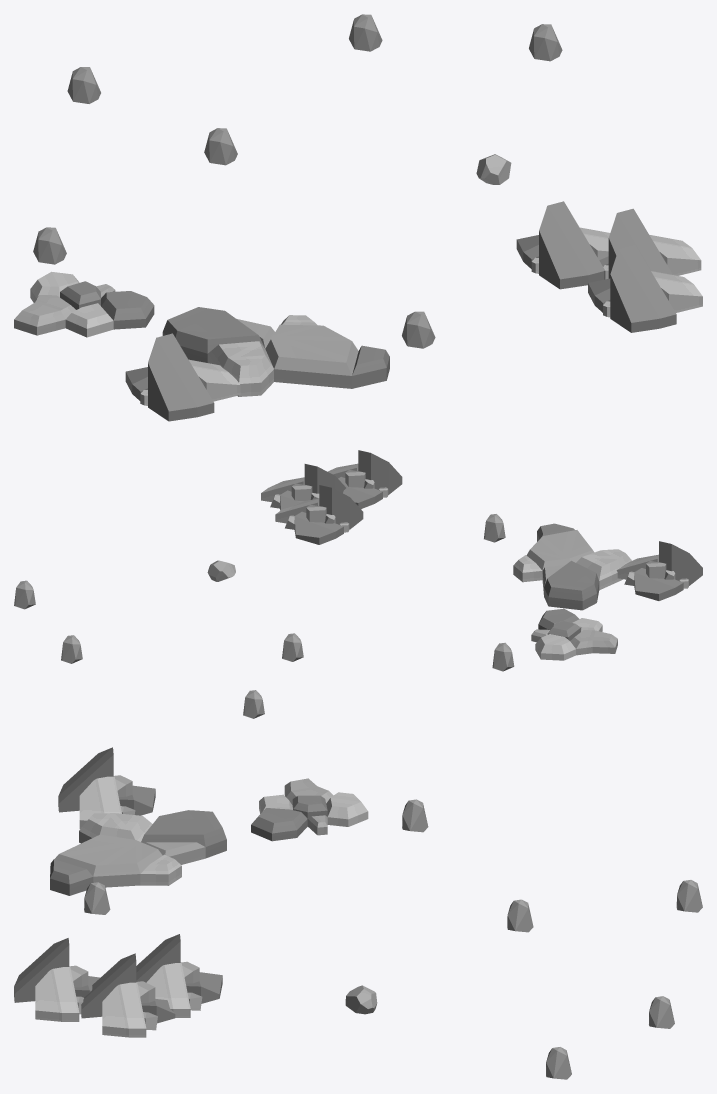
The model's file is rocks2.gltf.
The picture shows the model from 3 angles, top to bottom: view 1: azimuth 30°, elevation 25°; view 2: azimuth 150°, elevation 25°; view 3: azimuth 270°, elevation 25°; orthographic projection. The views are drawn at different scales.
Visible parts, largest first — view 1: Rock Type4 01, Rock Type4 02, Rock Type5 02 (1), Rock Type5 02 (3), Rock Type5 02, Rock Type5 02 (2), Rock_04 (1), Rock_04, Rock_04 (4), Rock_04 (5), Rock_04 (2), Rock_04 (3) (+1 smaller); view 2: Rock Type4 01, Rock Type4 02, Rock Type5 02, Rock Type5 02 (3), Rock Type5 02 (1), Rock Type5 02 (2), Rock_04 (3), Rock_04 (4), Rock_04 (1), Rock_04, Rock_04 (2), Rock_04 (5) (+1 smaller); view 3: Rock Type4 01, Rock Type4 02, Rock Type5 02 (2), Rock Type5 02 (1), Rock Type5 02 (3), Rock Type5 02, Rock Type2 04, Rock_04 (2), Rock_04, Rock_04 (1), Rock_04 (3), Rock_04 (4) (+1 smaller).
Part boxes in pixels (box(x1,y1,x2,y2)): Rock Type4 01: box(162, 307, 389, 396); Rock Type4 02: box(14, 271, 154, 337); Rock Type5 02 (1): box(588, 245, 702, 332); Rock Type5 02 (3): box(125, 333, 240, 421); Rock Type5 02: box(516, 201, 610, 289); Rock Type5 02 (2): box(599, 208, 701, 279); Rock_04 (1): box(402, 311, 435, 348); Rock_04: box(33, 227, 66, 264); Rock_04 (4): box(349, 14, 382, 51); Rock_04 (5): box(529, 24, 562, 61); Rock_04 (2): box(204, 128, 237, 165); Rock_04 (3): box(67, 67, 100, 103); Rock Type4 01: box(513, 523, 631, 610); Rock Type4 02: box(531, 608, 617, 660); Rock Type5 02: box(275, 485, 363, 544); Rock Type5 02 (3): box(616, 541, 702, 600); Rock Type5 02 (1): box(328, 450, 402, 508); Rock Type5 02 (2): box(261, 464, 345, 510); Rock_04 (3): box(243, 690, 264, 718); Rock_04 (4): box(61, 635, 82, 663); Rock_04 (1): box(484, 514, 505, 542); Rock_04: box(492, 642, 514, 671); Rock_04 (2): box(282, 633, 303, 661); Rock_04 (5): box(14, 580, 35, 609); Rock Type4 01: box(50, 810, 226, 895); Rock Type4 02: box(251, 778, 368, 841); Rock Type5 02 (2): box(81, 953, 175, 1037); Rock Type5 02 (1): box(14, 938, 99, 1021); Rock Type5 02 (3): box(58, 747, 155, 828); Rock Type5 02: box(136, 934, 222, 1017); Rock Type2 04: box(345, 985, 377, 1014); Rock_04 (2): box(507, 899, 533, 932); Rock_04: box(402, 799, 428, 832); Rock_04 (1): box(84, 882, 110, 914); Rock_04 (3): box(676, 880, 702, 912); Rock_04 (4): box(649, 996, 674, 1028).
Bounding box in the file's own units: 0.385 × 0.0347 × 0.3756.
2 materials, 2 textured.
